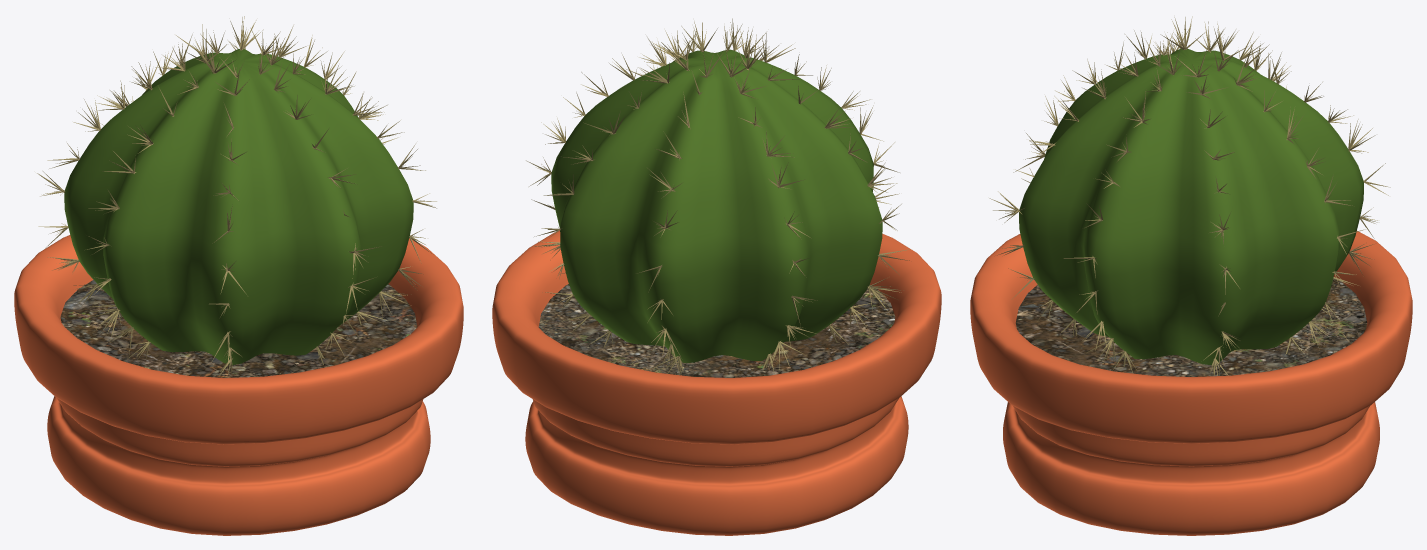
File: cactus.fbx
3 renders of one model, left to right at view 1: azimuth 30°, elevation 25°; view 2: azimuth 150°, elevation 25°; view 3: azimuth 270°, elevation 25°, orthographic.
Parts seen in each view (by area): view 1: Cylinder, Cube, Cylinder.001; view 2: Cylinder, Cube, Cylinder.001; view 3: Cylinder, Cube, Cylinder.001.
Part boxes in pixels (x1=…): Cylinder: x1=64, y1=49, x2=413, y2=365; Cube: x1=14, y1=235, x2=463, y2=535; Cylinder.001: x1=60, y1=280, x2=417, y2=377; Cylinder: x1=551, y1=49, x2=882, y2=362; Cube: x1=492, y1=230, x2=941, y2=535; Cylinder.001: x1=538, y1=284, x2=895, y2=377; Cylinder: x1=1019, y1=48, x2=1363, y2=365; Cube: x1=970, y1=231, x2=1412, y2=535; Cylinder.001: x1=1015, y1=278, x2=1367, y2=376.
Bounding box in the file's own units: 190 × 206 × 190.
